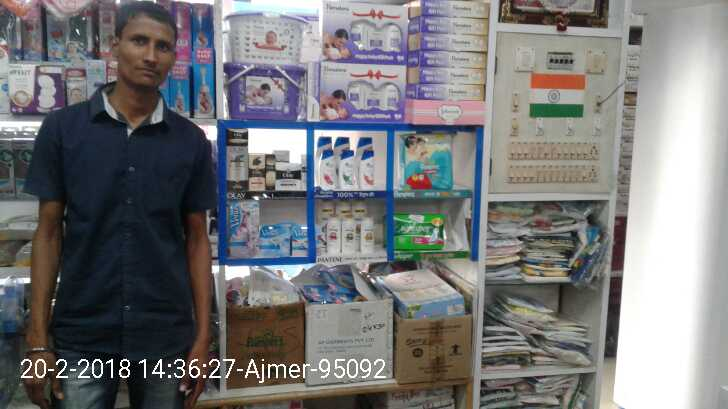venus: (228, 201, 260, 267), (264, 228, 293, 259), (293, 229, 307, 259)
